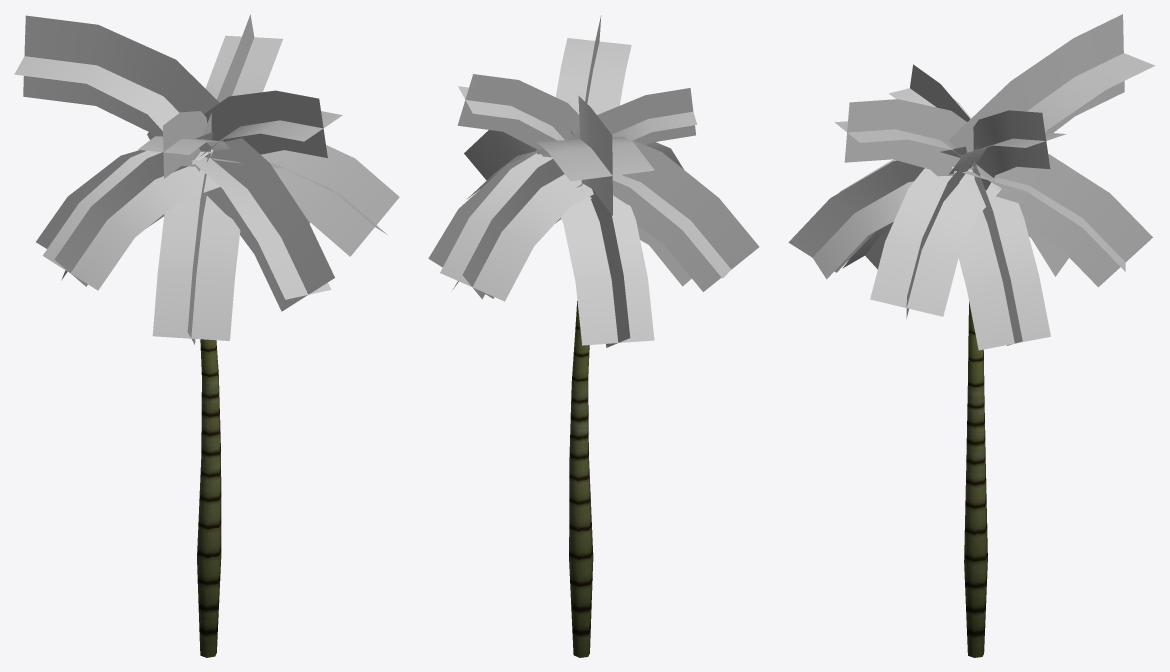
Rendered from 9_Palmera_LOD0.fbx.
3 renders of one model, left to right at view 1: azimuth 30°, elevation 25°; view 2: azimuth 150°, elevation 25°; view 3: azimuth 270°, elevation 25°, orthographic. The views are drawn at different scales.
Parts seen in each view (by area): view 1: 9_Palmera; view 2: 9_Palmera; view 3: 9_Palmera.
Boxes of the visible parts, <box> form: 9_Palmera: <box>14,14,399,657</box>; 9_Palmera: <box>428,15,759,657</box>; 9_Palmera: <box>788,14,1155,657</box>.
Bounding box in the file's own units: 641 × 1155 × 651.
